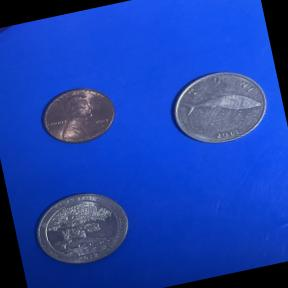Croatia-2Kune-B: (160, 58, 278, 155)
US-1cent-B: (32, 76, 125, 156)
US-25cent-B: (25, 180, 140, 278)
